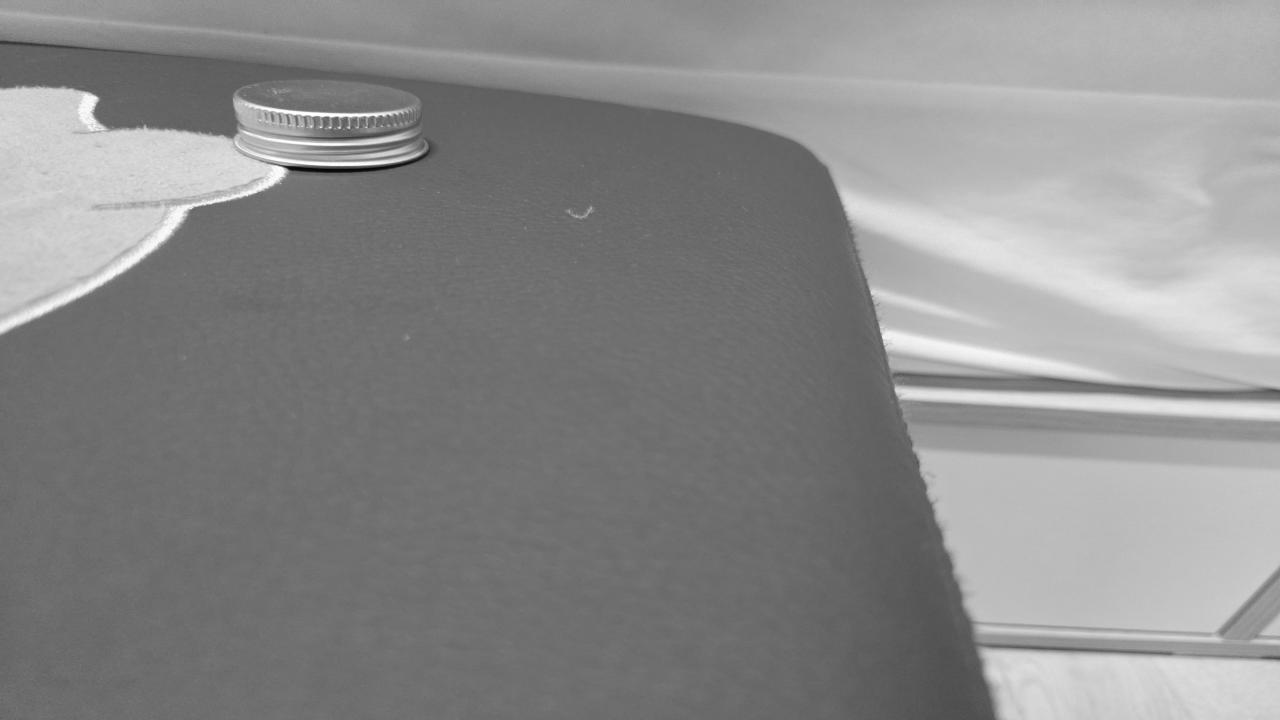bottle_cap: (227, 76, 428, 170)
